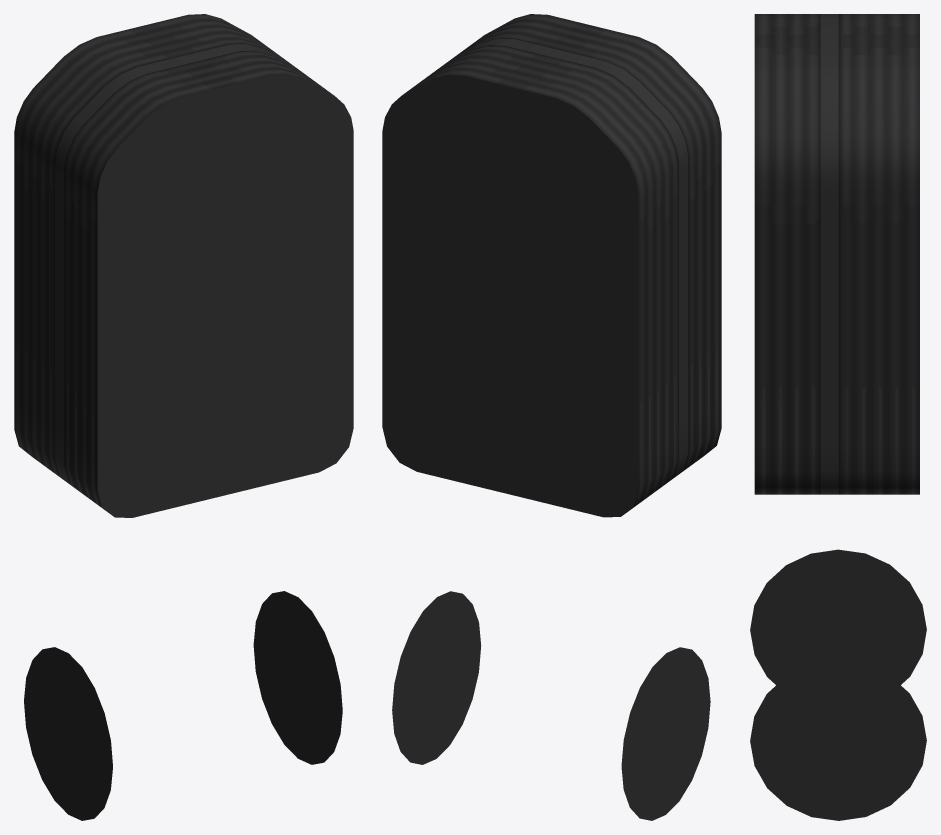
File: rabde502-twindexx-29-p.glb
The picture shows the model from 3 angles, left to right: view 1: azimuth 30°, elevation 25°; view 2: azimuth 150°, elevation 25°; view 3: azimuth 270°, elevation 25°; orthographic projection.
Parts seen in each view (by area): view 1: 00_body; view 2: 00_body; view 3: 00_body.
Boxes of the visible parts, x1,y1,x2,y2 form: 00_body: [14, 14, 353, 820]; 00_body: [382, 14, 721, 820]; 00_body: [750, 14, 926, 820].
Bounding box in the file's own units: 1.6 × 4.35 × 0.9633.
Materials: 1 (1 with a texture image).
